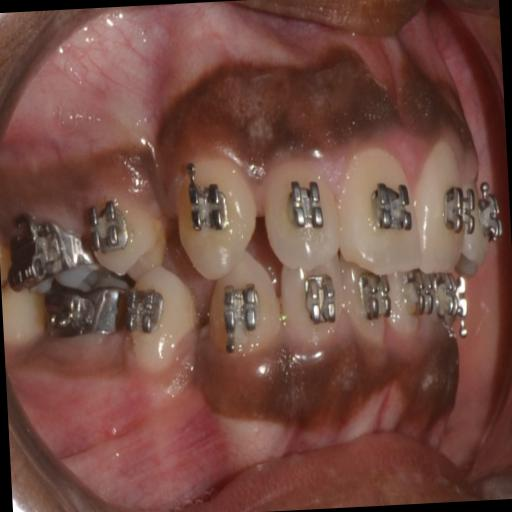correct_brace: (85, 168, 168, 278), (120, 272, 198, 374), (214, 268, 266, 362), (88, 188, 142, 270), (183, 166, 232, 250), (126, 284, 176, 362), (293, 268, 344, 342), (280, 178, 330, 246), (366, 176, 410, 242)
incorrect_brace: (265, 158, 342, 270), (278, 262, 350, 366)
